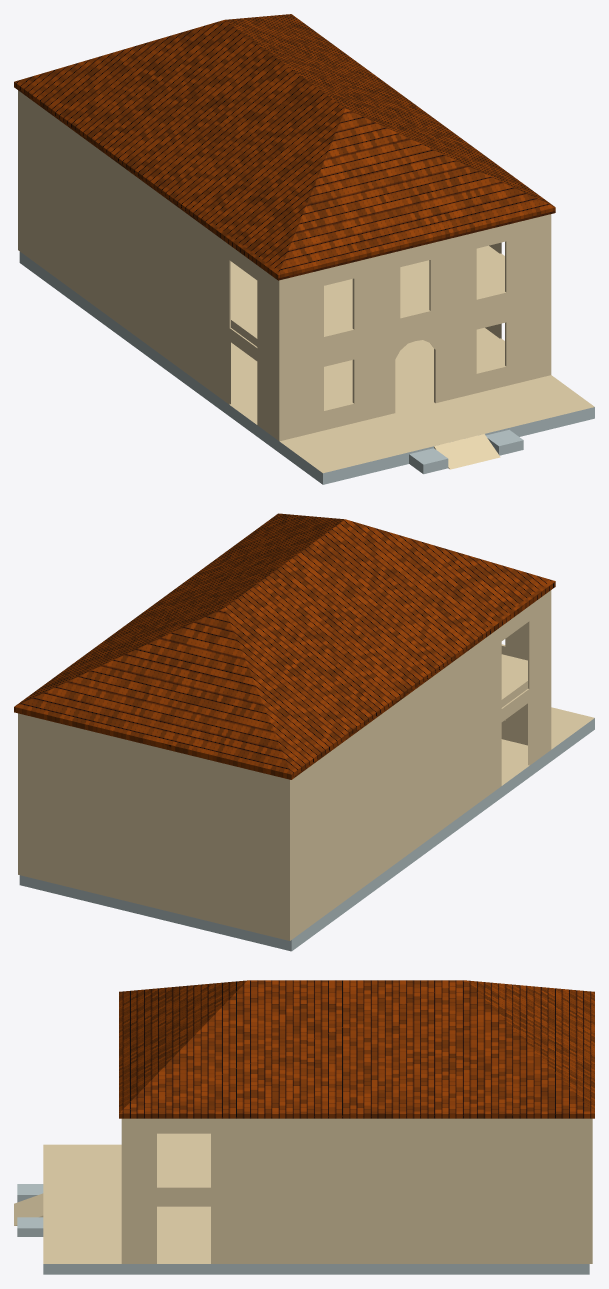
The model's file is predio central.fbx.
The picture shows the model from 3 angles, top to bottom: view 1: azimuth 30°, elevation 25°; view 2: azimuth 150°, elevation 25°; view 3: azimuth 270°, elevation 25°; orthographic projection. The views are drawn at different scales.
Parts seen in each view (by area): view 1: if.006, if.004; view 2: if.006, if.004; view 3: if.006, if.004.
Part boxes in pixels (left/top/right/bottom): if.006: left=18, top=90, right=594, bottom=484; if.004: left=14, top=14, right=555, bottom=280; if.006: left=18, top=590, right=594, bottom=951; if.004: left=14, top=513, right=555, bottom=779; if.006: left=14, top=1118, right=592, bottom=1274; if.004: left=119, top=980, right=594, bottom=1118.
Bounding box in the file's own units: 1698 × 1521 × 3417.
Materials: 3 (1 with a texture image).
